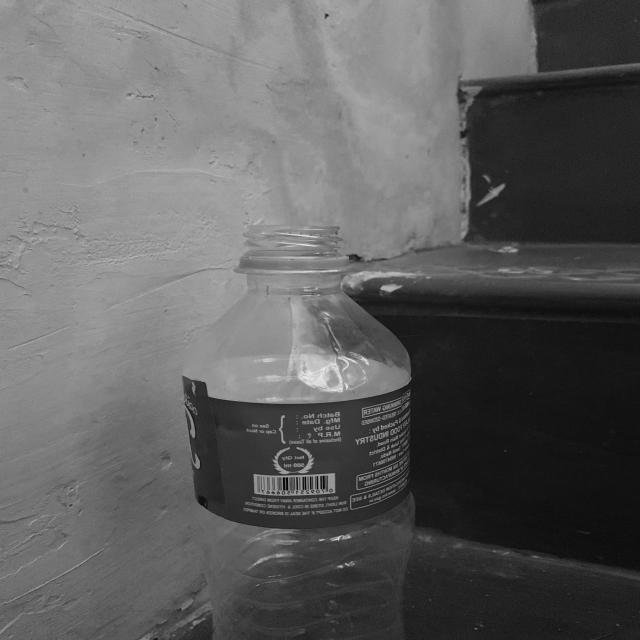open-cap: (238, 224, 347, 271)
